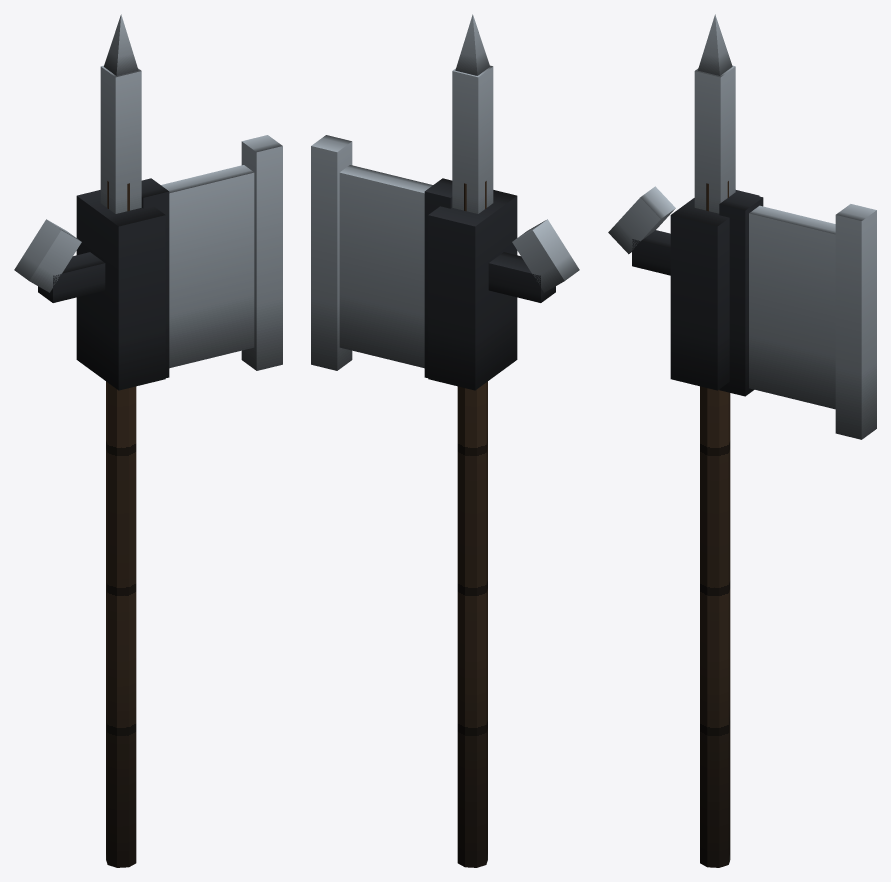
Rendered from halberd.gltf.
3 views of the same model, side by side, from view 1: azimuth 30°, elevation 25°; view 2: azimuth 150°, elevation 25°; view 3: azimuth 330°, elevation 25° (orthographic).
Visible parts, largest first — view 1: halberd; view 2: halberd; view 3: halberd.
Part boxes in pixels (box(x1,y1,x2,y2)): halberd: box(14, 14, 282, 867); halberd: box(311, 14, 579, 867); halberd: box(608, 14, 876, 867).
Bounding box in the file's own units: 0.4855 × 1.55 × 0.14.
1 material, 1 textured.
